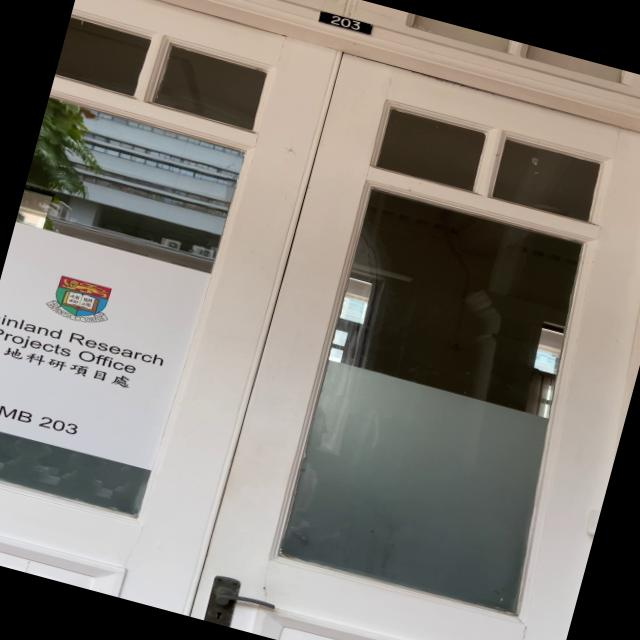room203: (312, 5, 378, 36)
